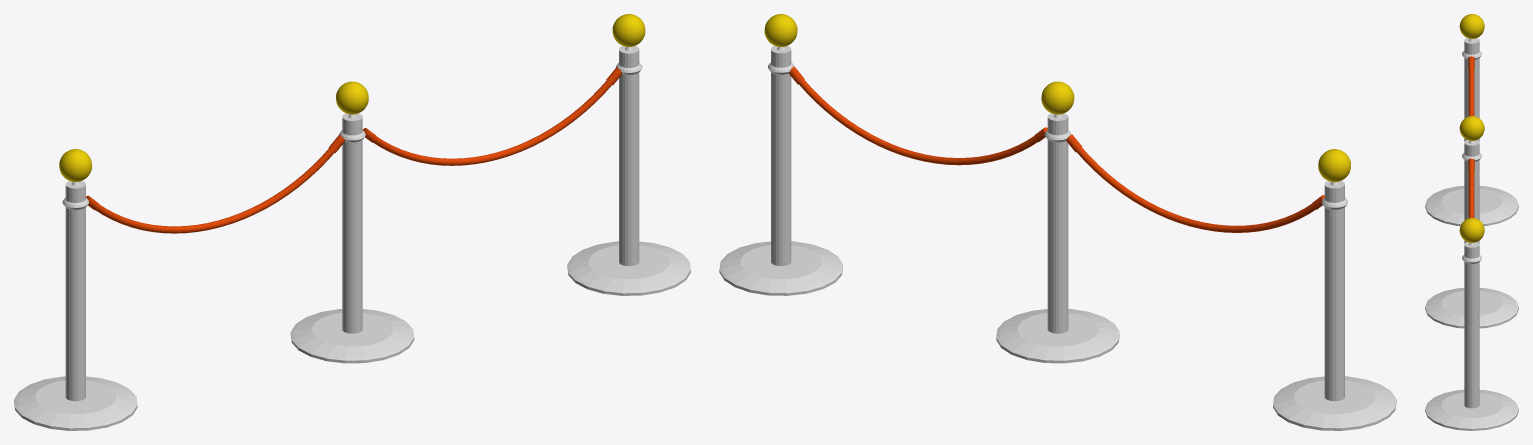
File: rail.fbx
The picture shows the model from 3 angles, left to right: view 1: azimuth 30°, elevation 25°; view 2: azimuth 150°, elevation 25°; view 3: azimuth 270°, elevation 25°; orthographic projection. The views are drawn at different scales.
Visible parts, largest first — view 1: pasted__pasted__pCylinder8, pasted__pasted__pCylinder7, pasted__pasted__pCylinder6, pasted__pCylinder3, pasted__pCylinder2, pasted__pasted__pSphere3, pasted__pasted__pSphere4, pasted__pasted__pSphere5; view 2: pasted__pasted__pCylinder7, pasted__pasted__pCylinder8, pasted__pasted__pCylinder6, pasted__pCylinder3, pasted__pCylinder2, pasted__pasted__pSphere4, pasted__pasted__pSphere3, pasted__pasted__pSphere5; view 3: pasted__pasted__pCylinder6, pasted__pasted__pCylinder7, pasted__pasted__pCylinder8, pasted__pasted__pSphere3, pasted__pasted__pSphere4, pasted__pasted__pSphere5, pasted__pCylinder3, pasted__pCylinder2.
Part boxes in pixels (bbox=[...]): pasted__pasted__pCylinder8: bbox=[14, 181, 137, 430]; pasted__pasted__pCylinder7: bbox=[290, 113, 414, 363]; pasted__pasted__pCylinder6: bbox=[567, 46, 690, 295]; pasted__pCylinder3: bbox=[86, 135, 344, 233]; pasted__pCylinder2: bbox=[362, 67, 621, 165]; pasted__pasted__pSphere3: bbox=[612, 14, 645, 46]; pasted__pasted__pSphere4: bbox=[336, 81, 368, 114]; pasted__pasted__pSphere5: bbox=[59, 149, 92, 181]; pasted__pasted__pCylinder7: bbox=[996, 113, 1119, 363]; pasted__pasted__pCylinder8: bbox=[1273, 181, 1396, 430]; pasted__pasted__pCylinder6: bbox=[719, 46, 842, 295]; pasted__pCylinder3: bbox=[1066, 134, 1324, 232]; pasted__pCylinder2: bbox=[789, 66, 1047, 165]; pasted__pasted__pSphere4: bbox=[1041, 81, 1074, 114]; pasted__pasted__pSphere3: bbox=[764, 14, 797, 46]; pasted__pasted__pSphere5: bbox=[1318, 149, 1350, 182]; pasted__pasted__pCylinder6: bbox=[1425, 242, 1518, 430]; pasted__pasted__pCylinder7: bbox=[1425, 140, 1518, 328]; pasted__pasted__pCylinder8: bbox=[1425, 38, 1518, 226]; pasted__pasted__pSphere3: bbox=[1459, 218, 1484, 242]; pasted__pasted__pSphere4: bbox=[1459, 116, 1484, 140]; pasted__pasted__pSphere5: bbox=[1459, 14, 1484, 38]; pasted__pCylinder3: bbox=[1468, 56, 1474, 116]; pasted__pCylinder2: bbox=[1468, 158, 1474, 218].
Size of the model in its own units: 21.67 by 7.97 by 3.53.
